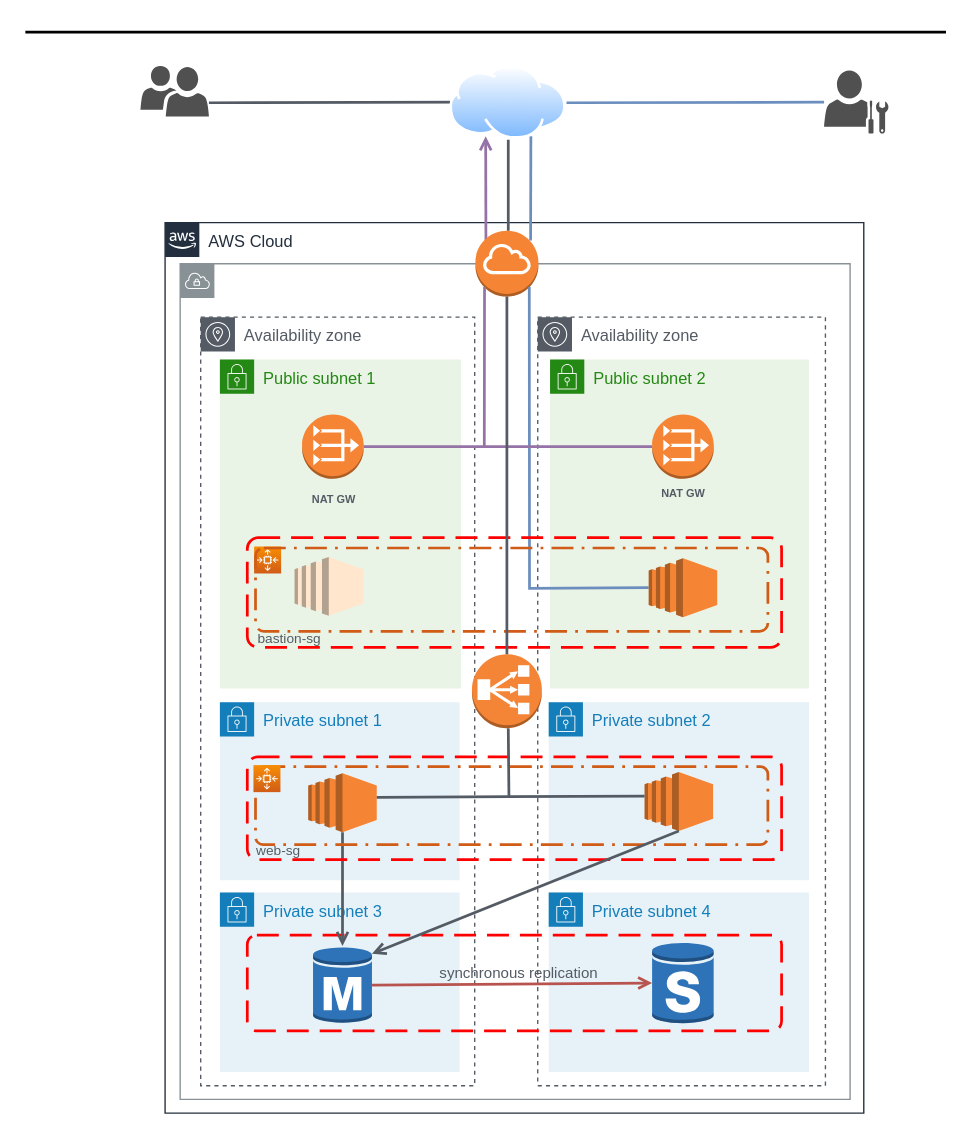
Image size: 970x1137. Some labels were removed from this diagram. Here are the shapes that lost their labels. From the top down, the box of each, then its label:
(140, 65, 208, 116): Customers http - https
(823, 70, 888, 133): Administrator ssh - https
(179, 262, 850, 1099): VPC
